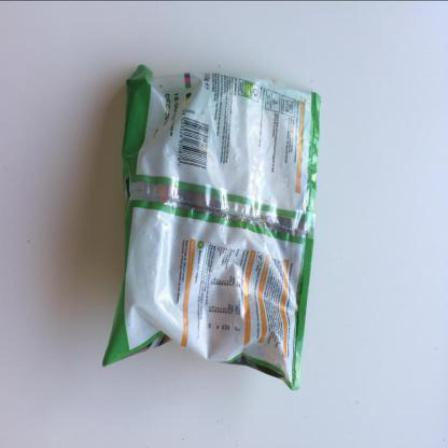Plastic bag - wrapper: (104, 66, 324, 392)
